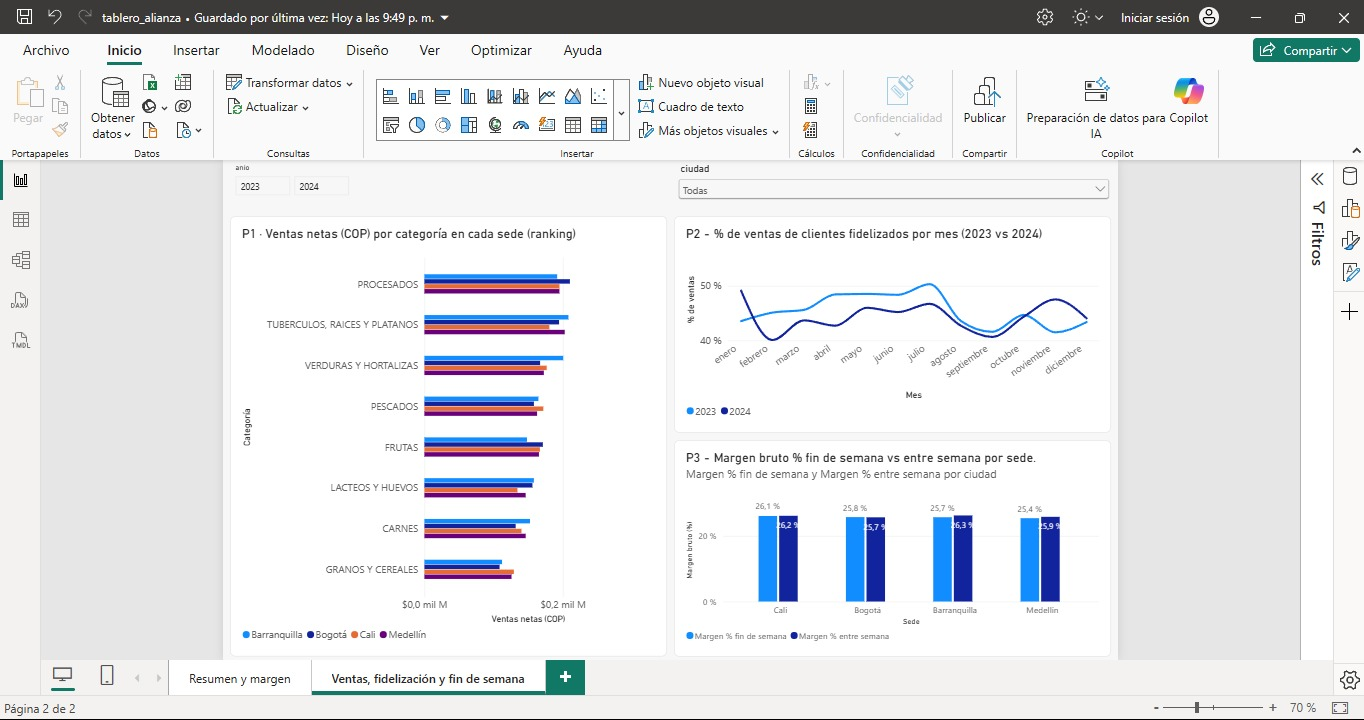

This screenshot's page, from the dashboard's own definition file:
{"tool":"powerbi","page":{"name":"Ventas, fidelización y fin de semana","canvas":[1920,1080],"ordinal":1},"visuals":[{"type":"clusteredBarChart","title":"P1 · Ventas netas (COP) por categoría en cada sede (ranking)","fields":{"Category":["dw_alianza dim_producto.categoria"],"Series":["dw_alianza dim_sede.ciudad"],"Y":["dw_alianza fact_ventas.Ventas netas"]},"box":[10,80,625,630],"z":0},{"type":"lineChart","title":"P2 - % de ventas de clientes fidelizados por mes (2023 vs 2024)","fields":{"Category":["dw_alianza dim_tiempo.nombre_mes"],"Series":["dw_alianza dim_tiempo.anio"],"Y":["dw_alianza fact_ventas.% ventas fidelizadas"]},"box":[645,80,625,310],"z":1000},{"type":"clusteredColumnChart","title":"P3 - Margen bruto % fin de semana vs entre semana por sede.","fields":{"Category":["dw_alianza dim_sede.ciudad"],"Y":["dw_alianza fact_ventas.Margen % fin de semana","dw_alianza fact_ventas.Margen % entre semana"]},"box":[645,400,625,310],"z":1001},{"type":"slicer","fields":{"Values":["dw_alianza dim_tiempo.anio"]},"box":[10,5,625,68],"z":1002},{"type":"slicer","fields":{"Values":["dw_alianza dim_sede.ciudad"]},"box":[646,5,626,68],"z":1003}]}

Visuals, with their boxes on the page's 1920x1080 design canvas (x1, y1, x2, y2). These are canvas units, not pixel positions in the 1364x720 screenshot, which may show the page scaled, cropped or inside an application window:
"P1 · Ventas netas (COP) por categoría en cada sede (ranking)" clusteredBarChart: {"x1": 10, "y1": 80, "x2": 635, "y2": 710}
"P2 - % de ventas de clientes fidelizados por mes (2023 vs 2024)" lineChart: {"x1": 645, "y1": 80, "x2": 1270, "y2": 390}
"P3 - Margen bruto % fin de semana vs entre semana por sede." clusteredColumnChart: {"x1": 645, "y1": 400, "x2": 1270, "y2": 710}
slicer - dw_alianza dim_tiempo.anio: {"x1": 10, "y1": 5, "x2": 635, "y2": 73}
slicer - dw_alianza dim_sede.ciudad: {"x1": 646, "y1": 5, "x2": 1272, "y2": 73}
